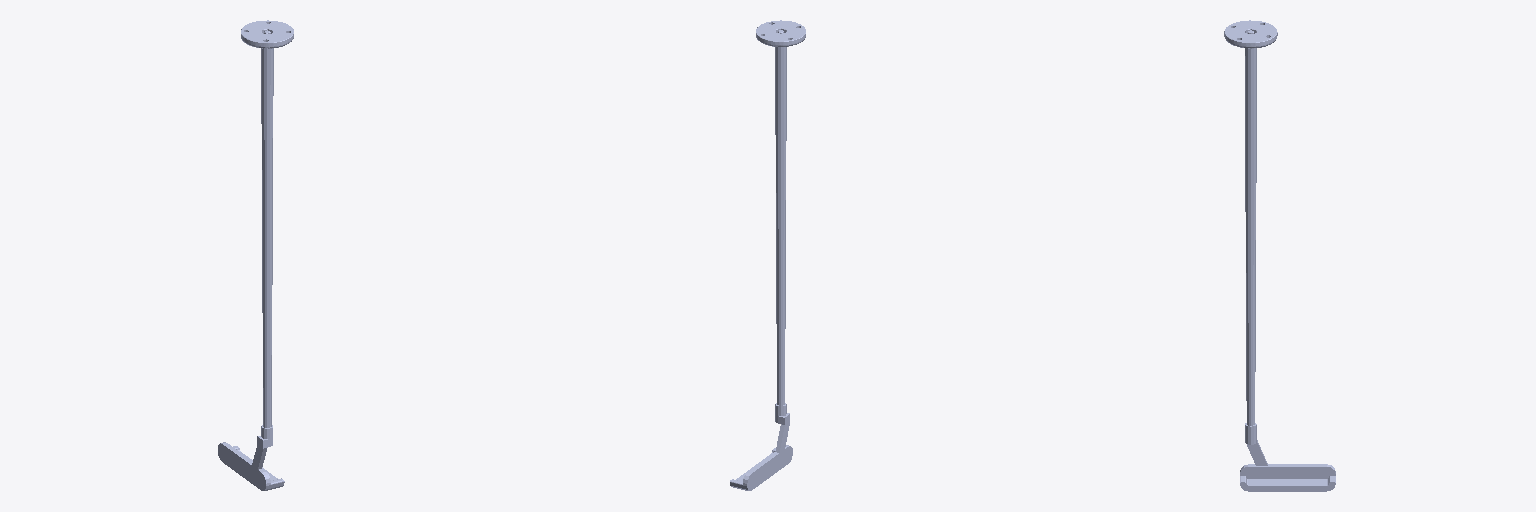
URDF robot description (golf_club):
<?xml version="1.0" encoding="utf-8"?>
<!-- This URDF was automatically created by SolidWorks to URDF Exporter! Originally created by Stephen Brawner ([email redacted]) 
     Commit Version: 1.6.0-4-g7f85cfe  Build Version: 1.6.7995.38578
     For more information, please see http://wiki.ros.org/sw_urdf_exporter -->
<robot
  name="golf_club">
  <link
    name="base_link">
    <inertial>
      <origin
        xyz="0.130471527445513 0.111081274562519 0.16847263476371"
        rpy="0 0 0" />
      <mass
        value="0.131438096272863" />
      <inertia
        ixx="0.00440572843642823"
        ixy="-2.95837567393854E-06"
        ixz="2.33284492535696E-07"
        iyy="9.47954140361861E-05"
        iyz="-0.000327658091727499"
        izz="0.00432935824399454" />
    </inertial>
    <visual>
      <origin
        xyz="0 0 0"
        rpy="0 0 0" />
      <geometry>
        <mesh
          filename="package://golf_club/meshes/base_link.STL" />
      </geometry>
      <material
        name="">
        <color
          rgba="0.792156862745098 0.819607843137255 0.933333333333333 1" />
      </material>
    </visual>
    <collision>
      <origin
        xyz="0 0 0"
        rpy="0 0 0" />
      <geometry>
        <mesh
          filename="package://golf_club/meshes/base_link.STL" />
      </geometry>
    </collision>
  </link>
</robot>

--- Facts derived from the render (not from the file) ---
3 views of the same robot in one strip: view 1: azimuth 30°, elevation 25°; view 2: azimuth 150°, elevation 25°; view 3: azimuth 270°, elevation 25° (orthographic).
Robot: golf_club — 1 links, 0 joints (none); root link base_link; default pose: every joint at zero.
Links seen in each view (by area): view 1: base_link; view 2: base_link; view 3: base_link.
Link boxes in pixels (x1,y1,x2,y2): base_link: (218,20,293,490); base_link: (730,20,805,490); base_link: (1224,20,1335,491).
Size in the robot's own frame: 0.0629 by 0.1317 by 0.5922 metres.
1 mesh visuals loaded from 1 distinct referenced files (1 binary STL).
